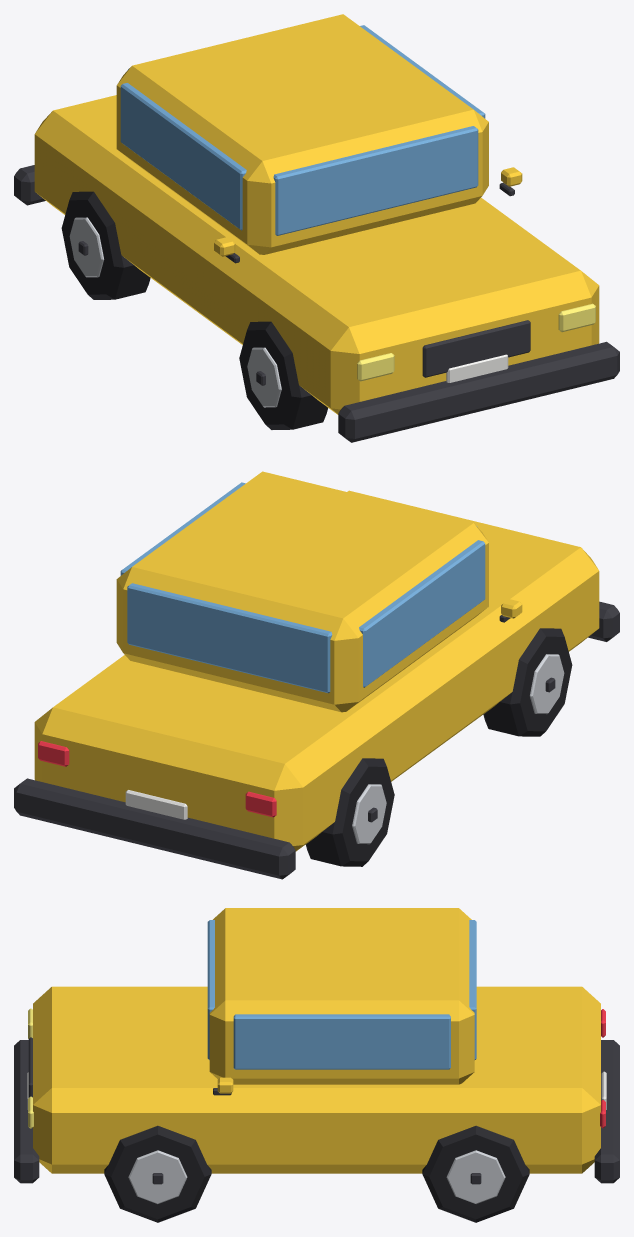
File: YellowCar.fbx
3 views of the same model, one above another, from view 1: azimuth 30°, elevation 25°; view 2: azimuth 150°, elevation 25°; view 3: azimuth 270°, elevation 25° (orthographic). The views are drawn at different scales.
Parts seen in each view (by area): view 1: YellowCar, YellowCar_WheelBR, YellowCar_WheelFR; view 2: YellowCar, YellowCar_WheelBR, YellowCar_WheelFR; view 3: YellowCar, YellowCar_WheelBL, YellowCar_WheelFL.
Part boxes in pixels (left/top/right/bottom): YellowCar: left=14, top=14, right=619, bottom=442; YellowCar_WheelBR: left=61, top=191, right=150, bottom=299; YellowCar_WheelFR: left=239, top=321, right=327, bottom=429; YellowCar: left=14, top=471, right=619, bottom=879; YellowCar_WheelBR: left=305, top=758, right=394, bottom=866; YellowCar_WheelFR: left=483, top=628, right=572, bottom=736; YellowCar: left=14, top=908, right=619, bottom=1183; YellowCar_WheelBL: left=422, top=1125, right=529, bottom=1222; YellowCar_WheelFL: left=104, top=1125, right=211, bottom=1222.
Size of the model in its own units: 4.95 by 3.67 by 9.6.
1 material, 1 textured.
